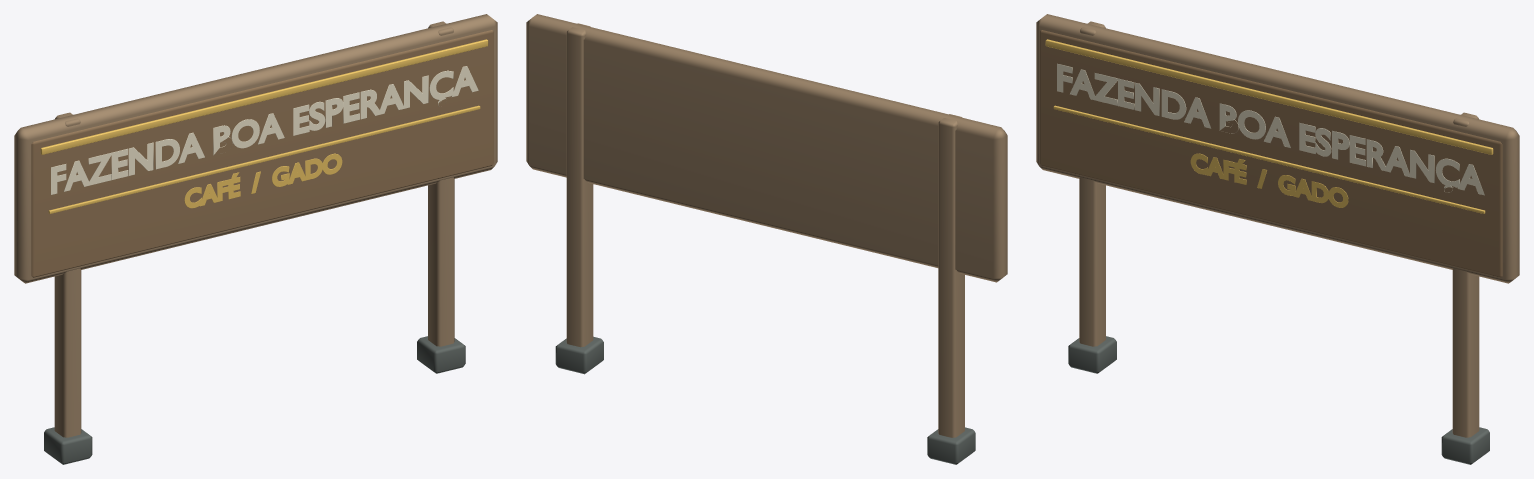
File: placa_identificacao_farm.glb
The picture shows the model from 3 angles, left to right: view 1: azimuth 30°, elevation 25°; view 2: azimuth 150°, elevation 25°; view 3: azimuth 330°, elevation 25°; orthographic projection.
Parts seen in each view (by area): view 1: placa_identificacao_farm; view 2: placa_identificacao_farm; view 3: placa_identificacao_farm.
Part boxes in pixels (left/top/right/bottom): placa_identificacao_farm: left=14, top=14, right=497, bottom=464; placa_identificacao_farm: left=526, top=14, right=1007, bottom=464; placa_identificacao_farm: left=1036, top=14, right=1519, bottom=464.
Size of the model in its own units: 4.2 by 2.84 by 0.3105.
